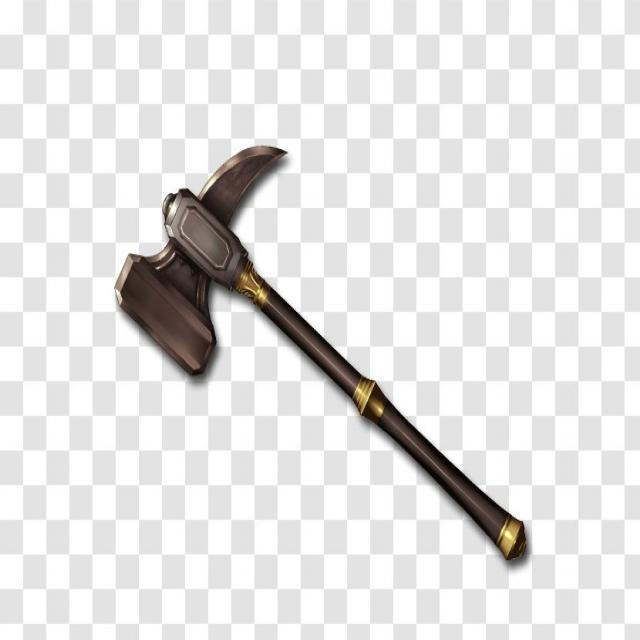hammer: (102, 129, 533, 572)
